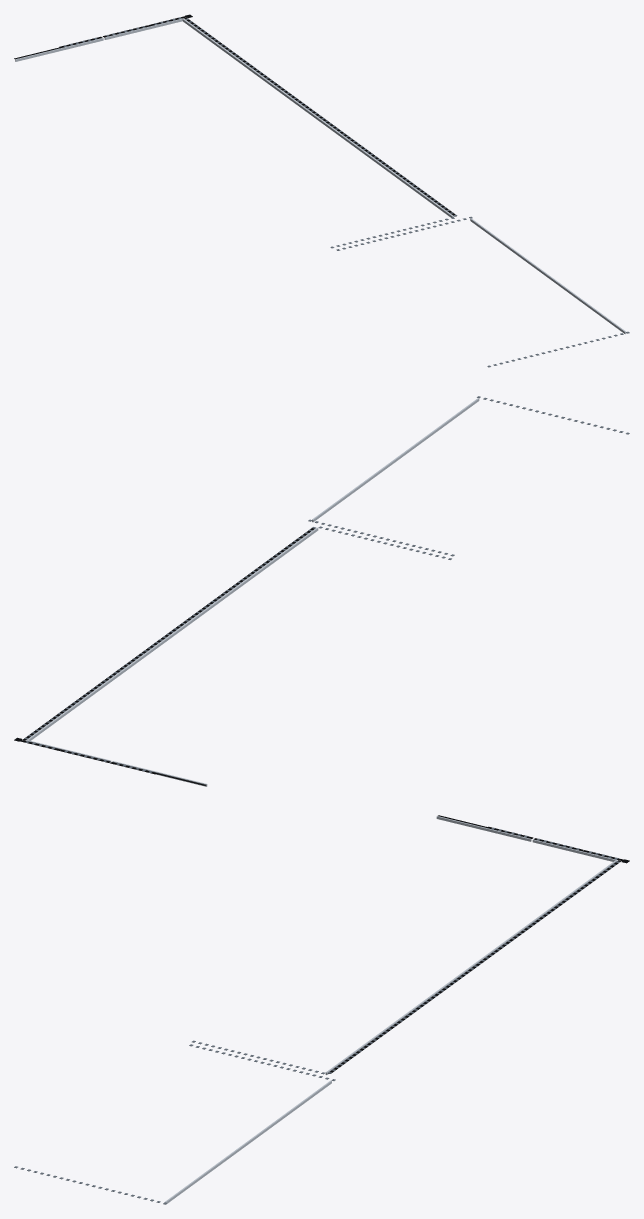
Rendered from tt_pool_deck_finish_c.glb.
3 views of the same model, one above another, from view 1: azimuth 30°, elevation 25°; view 2: azimuth 150°, elevation 25°; view 3: azimuth 330°, elevation 25° (orthographic). The views are drawn at different scales.
Visible parts, largest first — view 1: Coping, Gutter_Grate, Gutter_DarkSlot; view 2: Coping, Gutter_Grate, Gutter_DarkSlot; view 3: Coping, Gutter_Grate, Gutter_DarkSlot.
Part boxes in pixels (x1=…): Coping: x1=15, y1=18, x2=626, y2=334; Gutter_Grate: x1=63, y1=17, x2=629, y2=367; Gutter_DarkSlot: x1=14, y1=16, x2=456, y2=216; Coping: x1=26, y1=398, x2=479, y2=786; Gutter_Grate: x1=24, y1=396, x2=629, y2=773; Gutter_DarkSlot: x1=20, y1=528, x2=314, y2=785; Coping: x1=165, y1=816, x2=617, y2=1204; Gutter_Grate: x1=14, y1=827, x2=619, y2=1204; Gutter_DarkSlot: x1=328, y1=815, x2=623, y2=1073.
Size of what is drawn, in the model's own units: 8.1 by 0.096 by 33.83.
4 materials, 4 textured.
